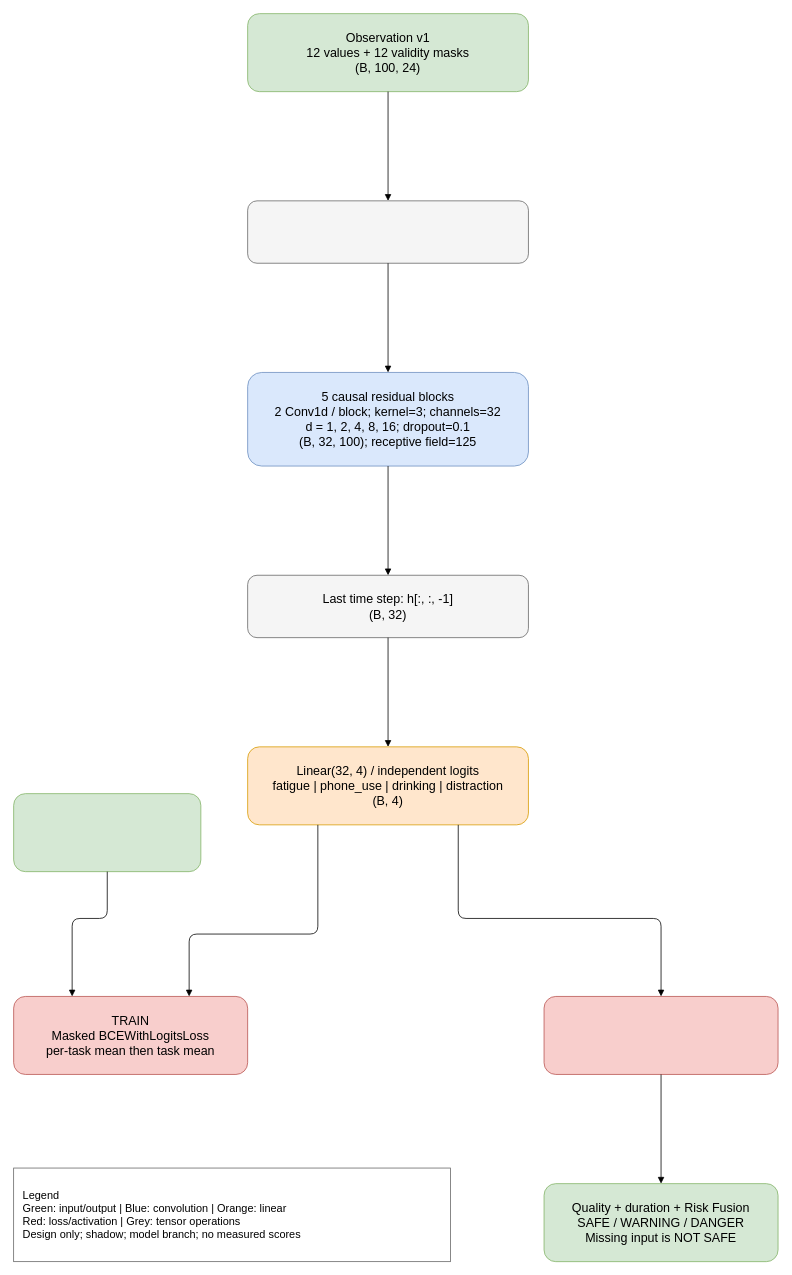
Image size: 792x1275. Some labels were removed from this diagram. Here are the shapes that lost their labels. From the top down, the centre of each, then its label:
At (387,231): "Transpose (B, 24, 100)".
At (107,832): "TRAIN ONLY target + label_mask (B, 4) each; unknown is masked".
At (660,1035): "INFERENCE Independent sigmoid (B, 4); no softmax".
